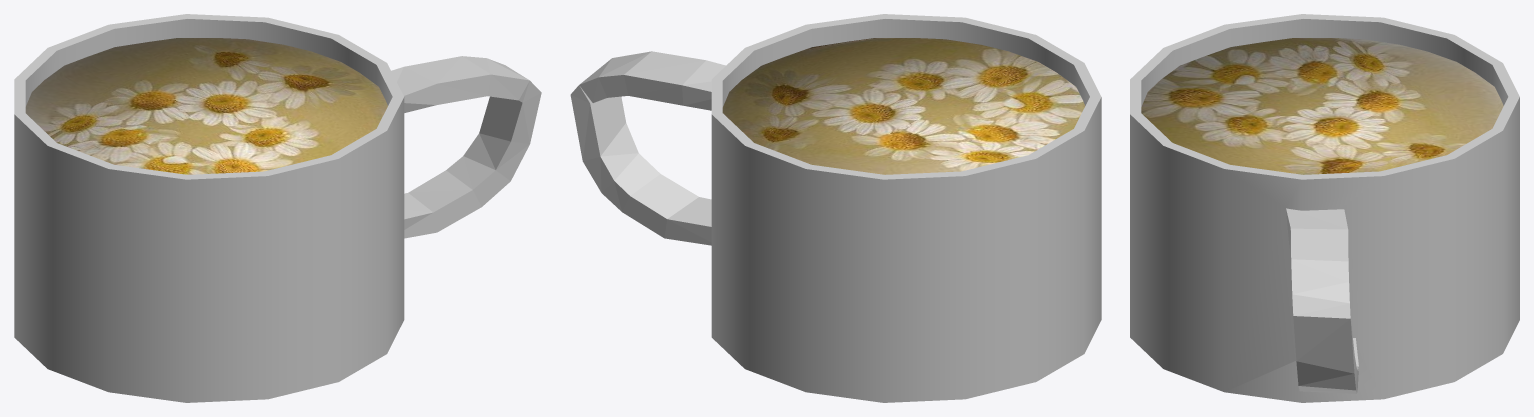
The model's file is GukwaTea.fbx.
3 renders of one model, left to right at view 1: azimuth 30°, elevation 25°; view 2: azimuth 150°, elevation 25°; view 3: azimuth 270°, elevation 25°, orthographic.
Parts seen in each view (by area): view 1: Cup, Gukwa_Tea; view 2: Cup, Gukwa_Tea; view 3: Cup, Gukwa_Tea.
Part boxes in pixels (x1,y1,x2,y2): Cup: (14,14,541,402); Gukwa_Tea: (25,38,387,174); Cup: (570,14,1101,402); Gukwa_Tea: (722,38,1085,174); Cup: (1130,14,1519,402); Gukwa_Tea: (1141,38,1503,174).
Size of the model in its own units: 98.85 by 45.36 by 68.15.
2 materials, 1 textured.
